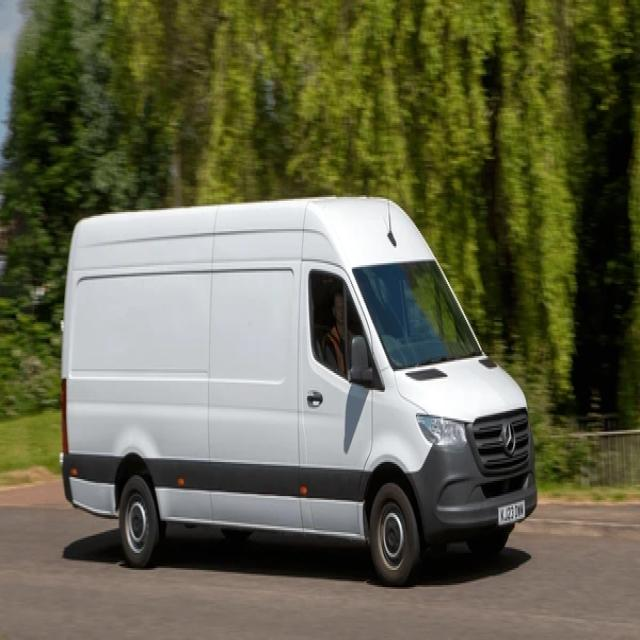mercedes: (502, 424, 516, 454)
